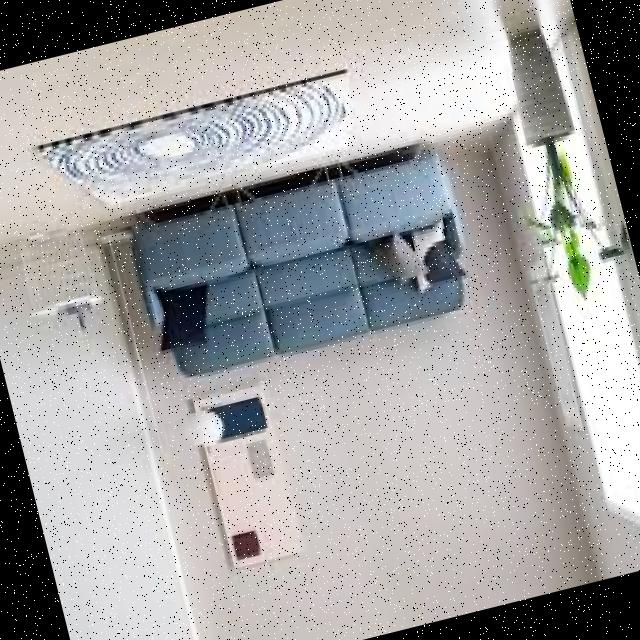Sofa: (108, 120, 500, 416)
